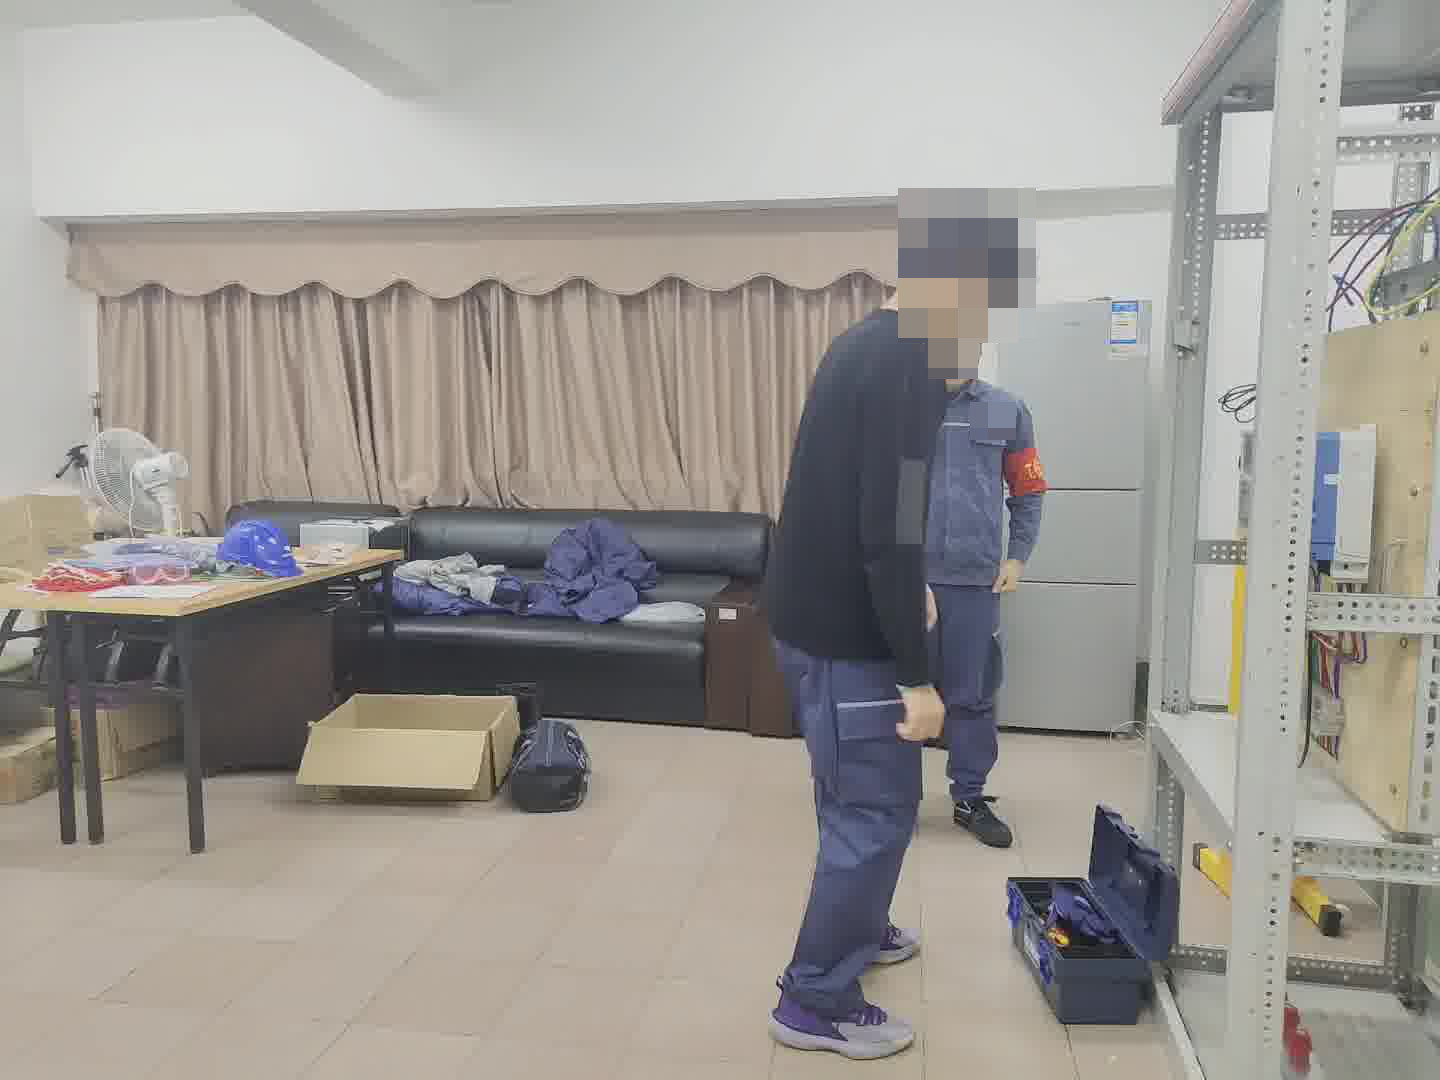badge: (1005, 444, 1050, 499)
downsuit: (783, 660, 944, 997), (927, 583, 1007, 803)
hand: (897, 687, 944, 744), (996, 561, 1018, 593)
noear: (922, 254, 999, 341)
person: (772, 195, 1034, 1053), (922, 335, 1052, 843)
unhalt: (896, 202, 1037, 346)
upcloth: (770, 309, 937, 644)
upsuit: (931, 379, 1043, 580)
